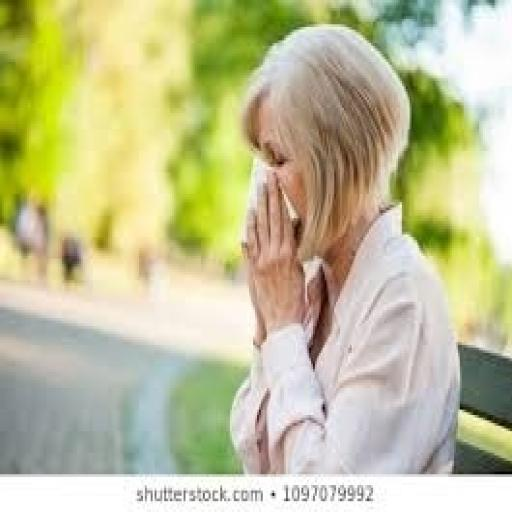sitting: (226, 22, 462, 474), (56, 229, 85, 286)
